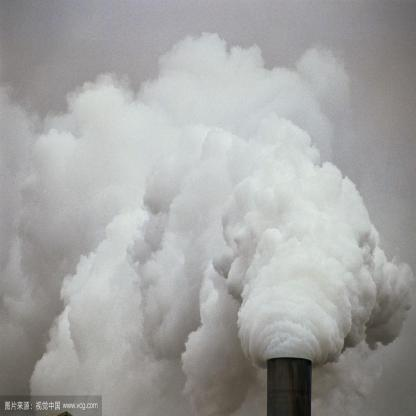smoke: (5, 102, 198, 398), (200, 53, 353, 359), (354, 204, 414, 352), (79, 54, 206, 105)
